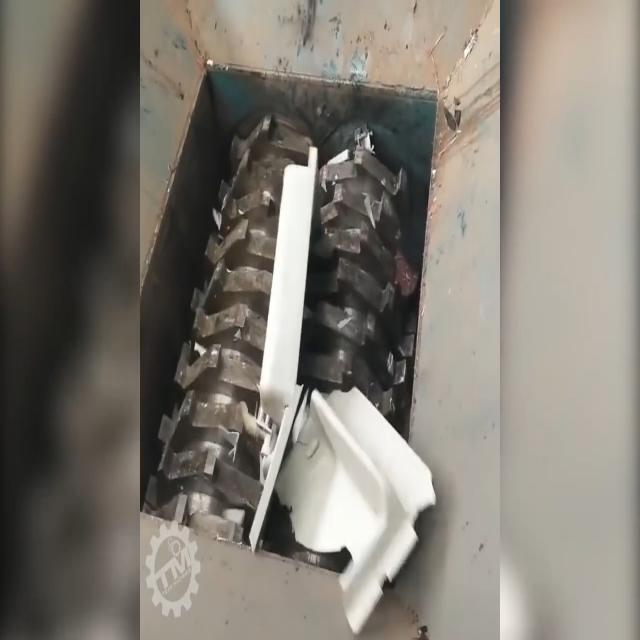Broyeur: (138, 47, 444, 612)
